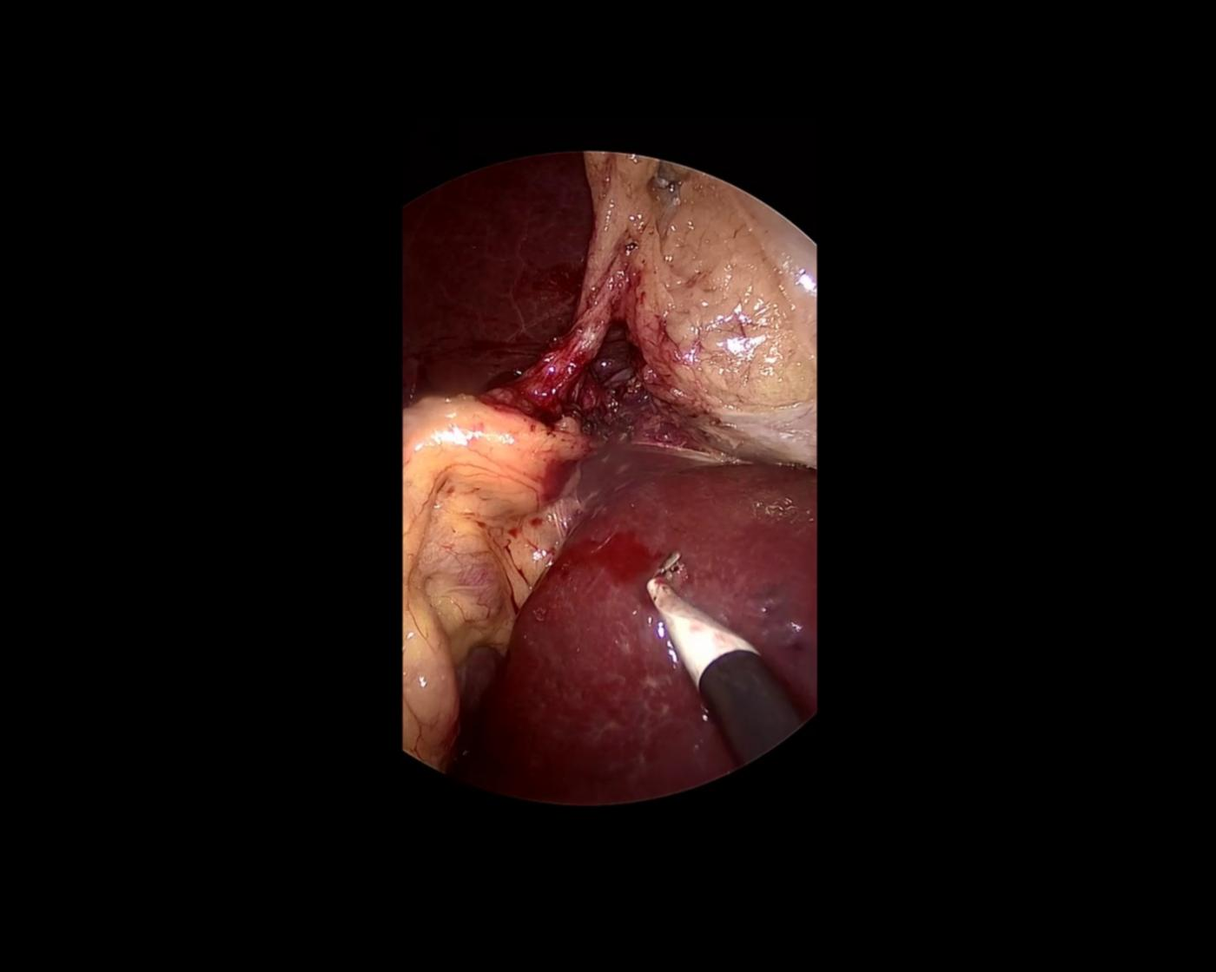Cautery: (620, 543, 803, 765)
Gallbladder: (579, 154, 817, 470)
Liver: (445, 430, 839, 826), (400, 155, 593, 406)
